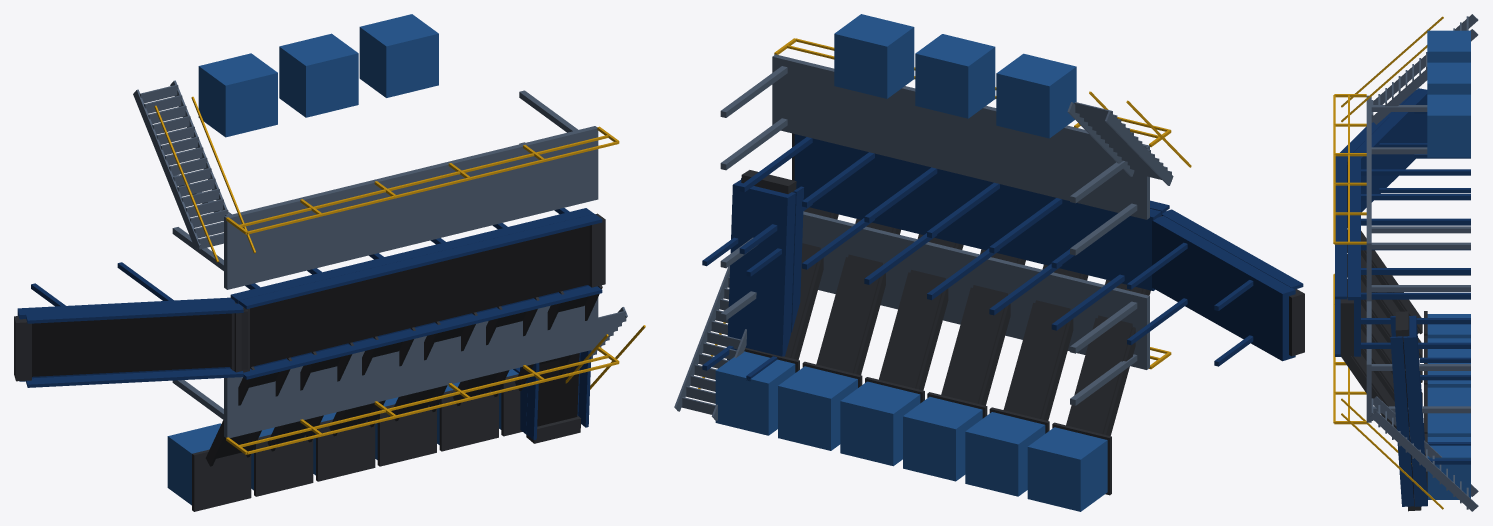
Rendered from sorting_line.obj.
3 views of the same model, side by side, from view 1: azimuth 30°, elevation 25°; view 2: azimuth 150°, elevation 25°; view 3: azimuth 270°, elevation 25° (orthographic). The views are drawn at different scales.
Parts seen in each view (by area): view 1: picking_platform_north_deck.006, main_sorting_belt_belt.006, picking_platform_south_deck.006, incline_infeed_belt.006, sorting_bin.061, sorting_bin.062, sorting_bin.060, main_sorting_belt_side.012, main_sorting_belt_side.013, main_sorting_belt_frame.006, sorting_bin_lip.036, sorting_bin_lip.037 (+19 smaller); view 2: picking_platform_north_deck.006, main_sorting_belt_frame.006, picking_platform_south_deck.006, incline_infeed_frame.006, transfer_belt_frame.006, sorting_bin.062, sorting_bin.061, sorting_bin.054, sorting_bin.060, sorting_bin.055, sorting_bin.057, sorting_bin.056 (+32 smaller); view 3: incline_infeed_frame.006, sorting_bin.062, transfer_belt_frame.006, main_sorting_belt_frame.006, transfer_belt_side.012, sorting_bin.059, main_sorting_belt_side.012, sorting_bin.060, sorting_bin.061, platform_stairs_stringer.013, picking_platform_north_deck.006, sorting_bin.058 (+51 smaller).
Part boxes in pixels (left/top/right/bottom): picking_platform_north_deck.006: left=224, top=126, right=598, bottom=289; main_sorting_belt_belt.006: left=250, top=225, right=589, bottom=367; picking_platform_south_deck.006: left=224, top=297, right=598, bottom=437; incline_infeed_belt.006: left=32, top=313, right=231, bottom=376; sorting_bin.061: left=279, top=33, right=358, bottom=117; sorting_bin.062: left=359, top=14, right=438, bottom=97; sorting_bin.060: left=198, top=53, right=277, bottom=137; main_sorting_belt_side.012: left=239, top=214, right=602, bottom=309; main_sorting_belt_side.013: left=243, top=286, right=602, bottom=379; main_sorting_belt_frame.006: left=230, top=208, right=593, bottom=367; sorting_bin_lip.036: left=192, top=449, right=251, bottom=511; sorting_bin_lip.037: left=254, top=434, right=313, bottom=496; picking_platform_north_deck.006: left=772, top=54, right=1149, bottom=219; main_sorting_belt_frame.006: left=794, top=134, right=1161, bottom=290; picking_platform_south_deck.006: left=802, top=211, right=1149, bottom=369; incline_infeed_frame.006: left=1152, top=216, right=1295, bottom=361; transfer_belt_frame.006: left=727, top=180, right=795, bottom=360; sorting_bin.062: left=834, top=14, right=914, bottom=98; sorting_bin.061: left=915, top=34, right=995, bottom=118; sorting_bin.054: left=1027, top=427, right=1107, bottom=511; sorting_bin.060: left=996, top=53, right=1076, bottom=138; sorting_bin.055: left=965, top=412, right=1045, bottom=496; sorting_bin.057: left=840, top=381, right=920, bottom=466; sorting_bin.056: left=903, top=396, right=982, bottom=481; incline_infeed_frame.006: left=1353, top=88, right=1427, bottom=212; sorting_bin.062: left=1427, top=94, right=1470, bottom=157; transfer_belt_frame.006: left=1403, top=315, right=1427, bottom=506; main_sorting_belt_frame.006: left=1348, top=156, right=1360, bottom=356; transfer_belt_side.012: left=1390, top=336, right=1414, bottom=506; sorting_bin.059: left=1427, top=437, right=1470, bottom=499; main_sorting_belt_side.012: left=1335, top=156, right=1347, bottom=299; sorting_bin.060: left=1427, top=30, right=1470, bottom=62; sorting_bin.061: left=1427, top=62, right=1470, bottom=94; platform_stairs_stringer.013: left=1370, top=411, right=1478, bottom=511; picking_platform_north_deck.006: left=1366, top=95, right=1371, bottom=301; sorting_bin.058: left=1427, top=413, right=1470, bottom=436.
Size of the model in its own units: 18.93 by 13.04 by 4.98.
